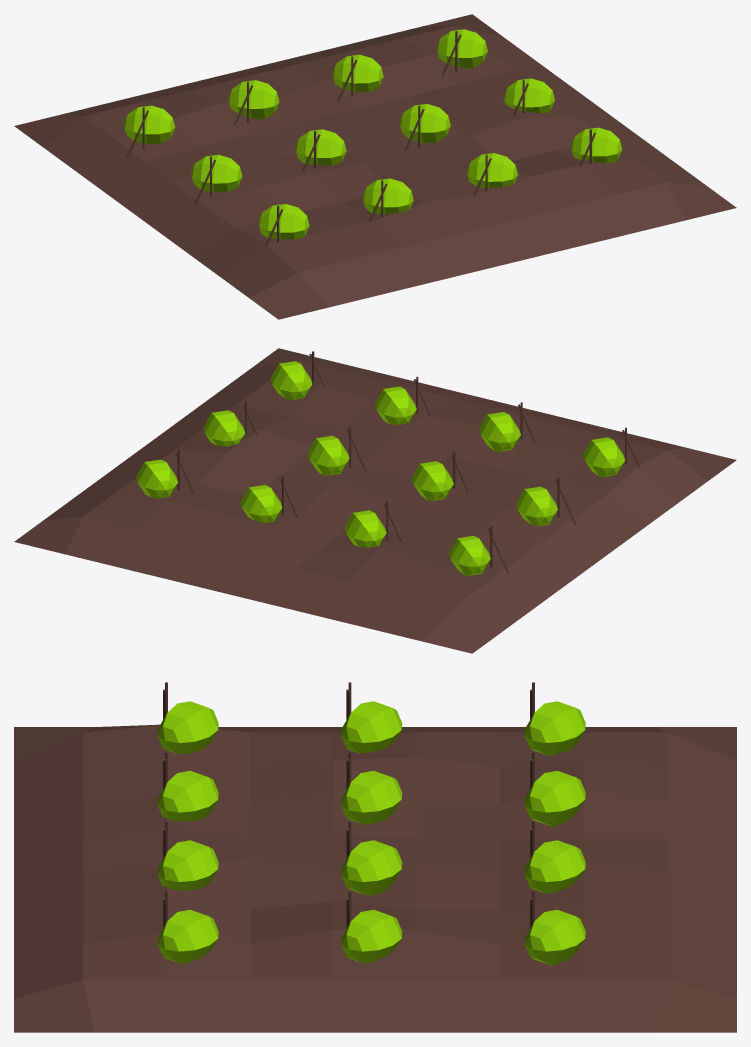
The model's file is WaterMelonFarm.fbx.
3 views of the same model, one above another, from view 1: azimuth 30°, elevation 25°; view 2: azimuth 150°, elevation 25°; view 3: azimuth 270°, elevation 25° (orthographic). The views are drawn at different scales.
Visible parts, largest first — view 1: Plane.007; view 2: Plane.007; view 3: Plane.007.
Part boxes in pixels (x1,y1,x2,y2): Plane.007: [14, 14, 736, 319]; Plane.007: [14, 348, 736, 653]; Plane.007: [14, 682, 736, 1032].
Bounding box in the file's own units: 2457 × 304 × 2457.
